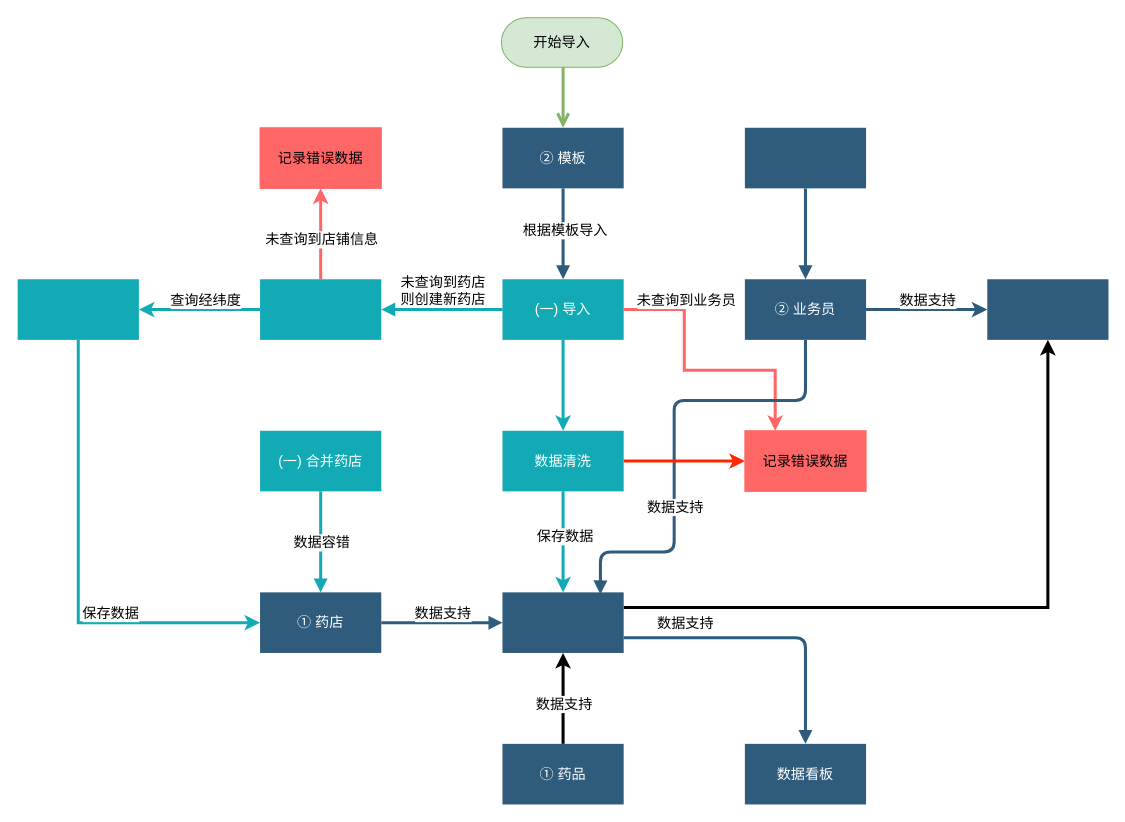
The diagram is 1125 pixels wide and 822 high, and some of its shapes have lost their labels. The shapes that lost their labels are listed below. From the top down, each one's box as (x1, y1, x2, y2) in pixels, then its label:
(744, 127, 866, 188): ① 组织
(17, 279, 138, 339): 百度经纬度
(260, 279, 381, 339): 天眼查
(987, 279, 1108, 339): ③ 佣金管理
(502, 592, 623, 652): 销售订单
